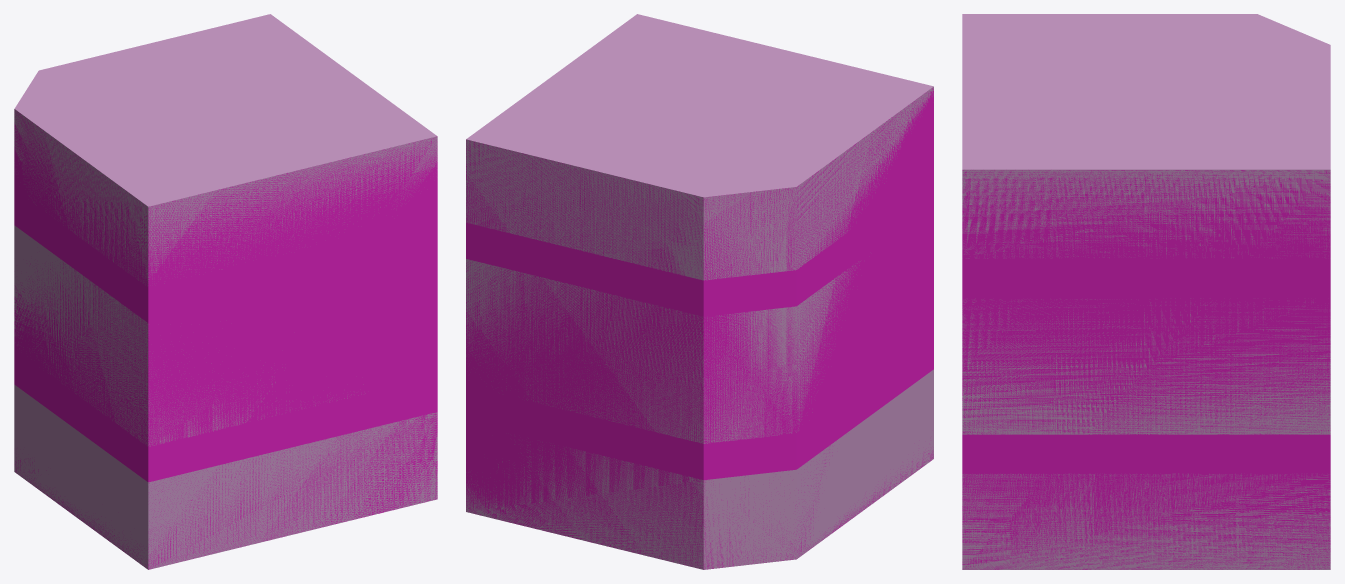
Rendered from building13.fbx.
The picture shows the model from 3 angles, left to right: view 1: azimuth 30°, elevation 25°; view 2: azimuth 150°, elevation 25°; view 3: azimuth 270°, elevation 25°; orthographic projection. The views are drawn at different scales.
Visible parts, largest first — view 1: building13_COL, building13_MESH; view 2: building13_MESH, building13_COL; view 3: building13_COL, building13_MESH.
Boxes of the visible parts, x1=… form: building13_COL: x1=14, y1=110, x2=437, y2=569; building13_MESH: x1=14, y1=14, x2=437, y2=569; building13_MESH: x1=466, y1=14, x2=933, y2=569; building13_COL: x1=466, y1=88, x2=933, y2=569; building13_COL: x1=962, y1=170, x2=1330, y2=569; building13_MESH: x1=962, y1=14, x2=1330, y2=569.
Size of the model in its own units: 673 by 673 by 808.
